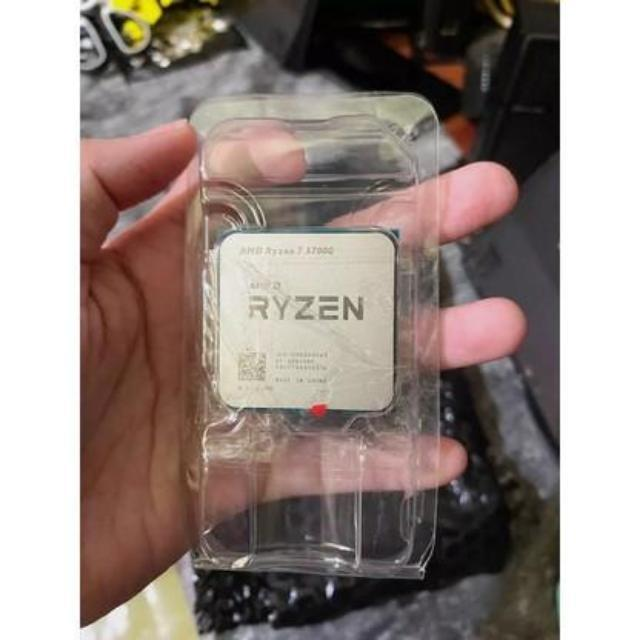CPU: (218, 230, 393, 412)
